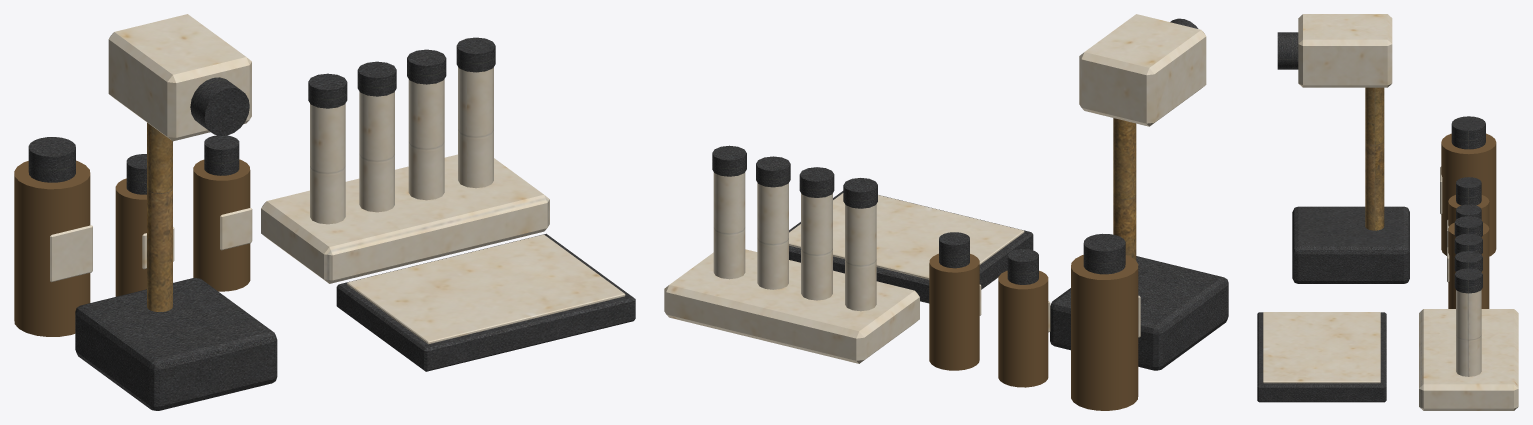
File: lab_accessories.glb
The picture shows the model from 3 angles, left to right: view 1: azimuth 30°, elevation 25°; view 2: azimuth 150°, elevation 25°; view 3: azimuth 270°, elevation 25°; orthographic projection. The views are drawn at different scales.
Parts seen in each view (by area): view 1: Glazed ceramic and paper, Black laboratory instrument, Amber reagent bottle, Instrument support; view 2: Glazed ceramic and paper, Amber reagent bottle, Black laboratory instrument, Instrument support; view 3: Glazed ceramic and paper, Black laboratory instrument, Amber reagent bottle, Instrument support.
Boxes of the visible parts, x1,y1,x2,y2 form: Glazed ceramic and paper: (50, 14, 625, 344); Black laboratory instrument: (28, 37, 635, 410); Amber reagent bottle: (14, 159, 250, 336); Instrument support: (147, 122, 172, 311); Glazed ceramic and paper: (664, 14, 1206, 363); Amber reagent bottle: (929, 253, 1138, 410); Black laboratory instrument: (712, 18, 1228, 370); Instrument support: (1113, 118, 1136, 260); Glazed ceramic and paper: (1263, 14, 1518, 410); Black laboratory instrument: (1257, 32, 1485, 402); Amber reagent bottle: (1441, 133, 1496, 308); Instrument support: (1365, 87, 1384, 230).
Bounding box in the file's own units: 0.707 × 0.445 × 0.445.
4 materials, 3 textured.
